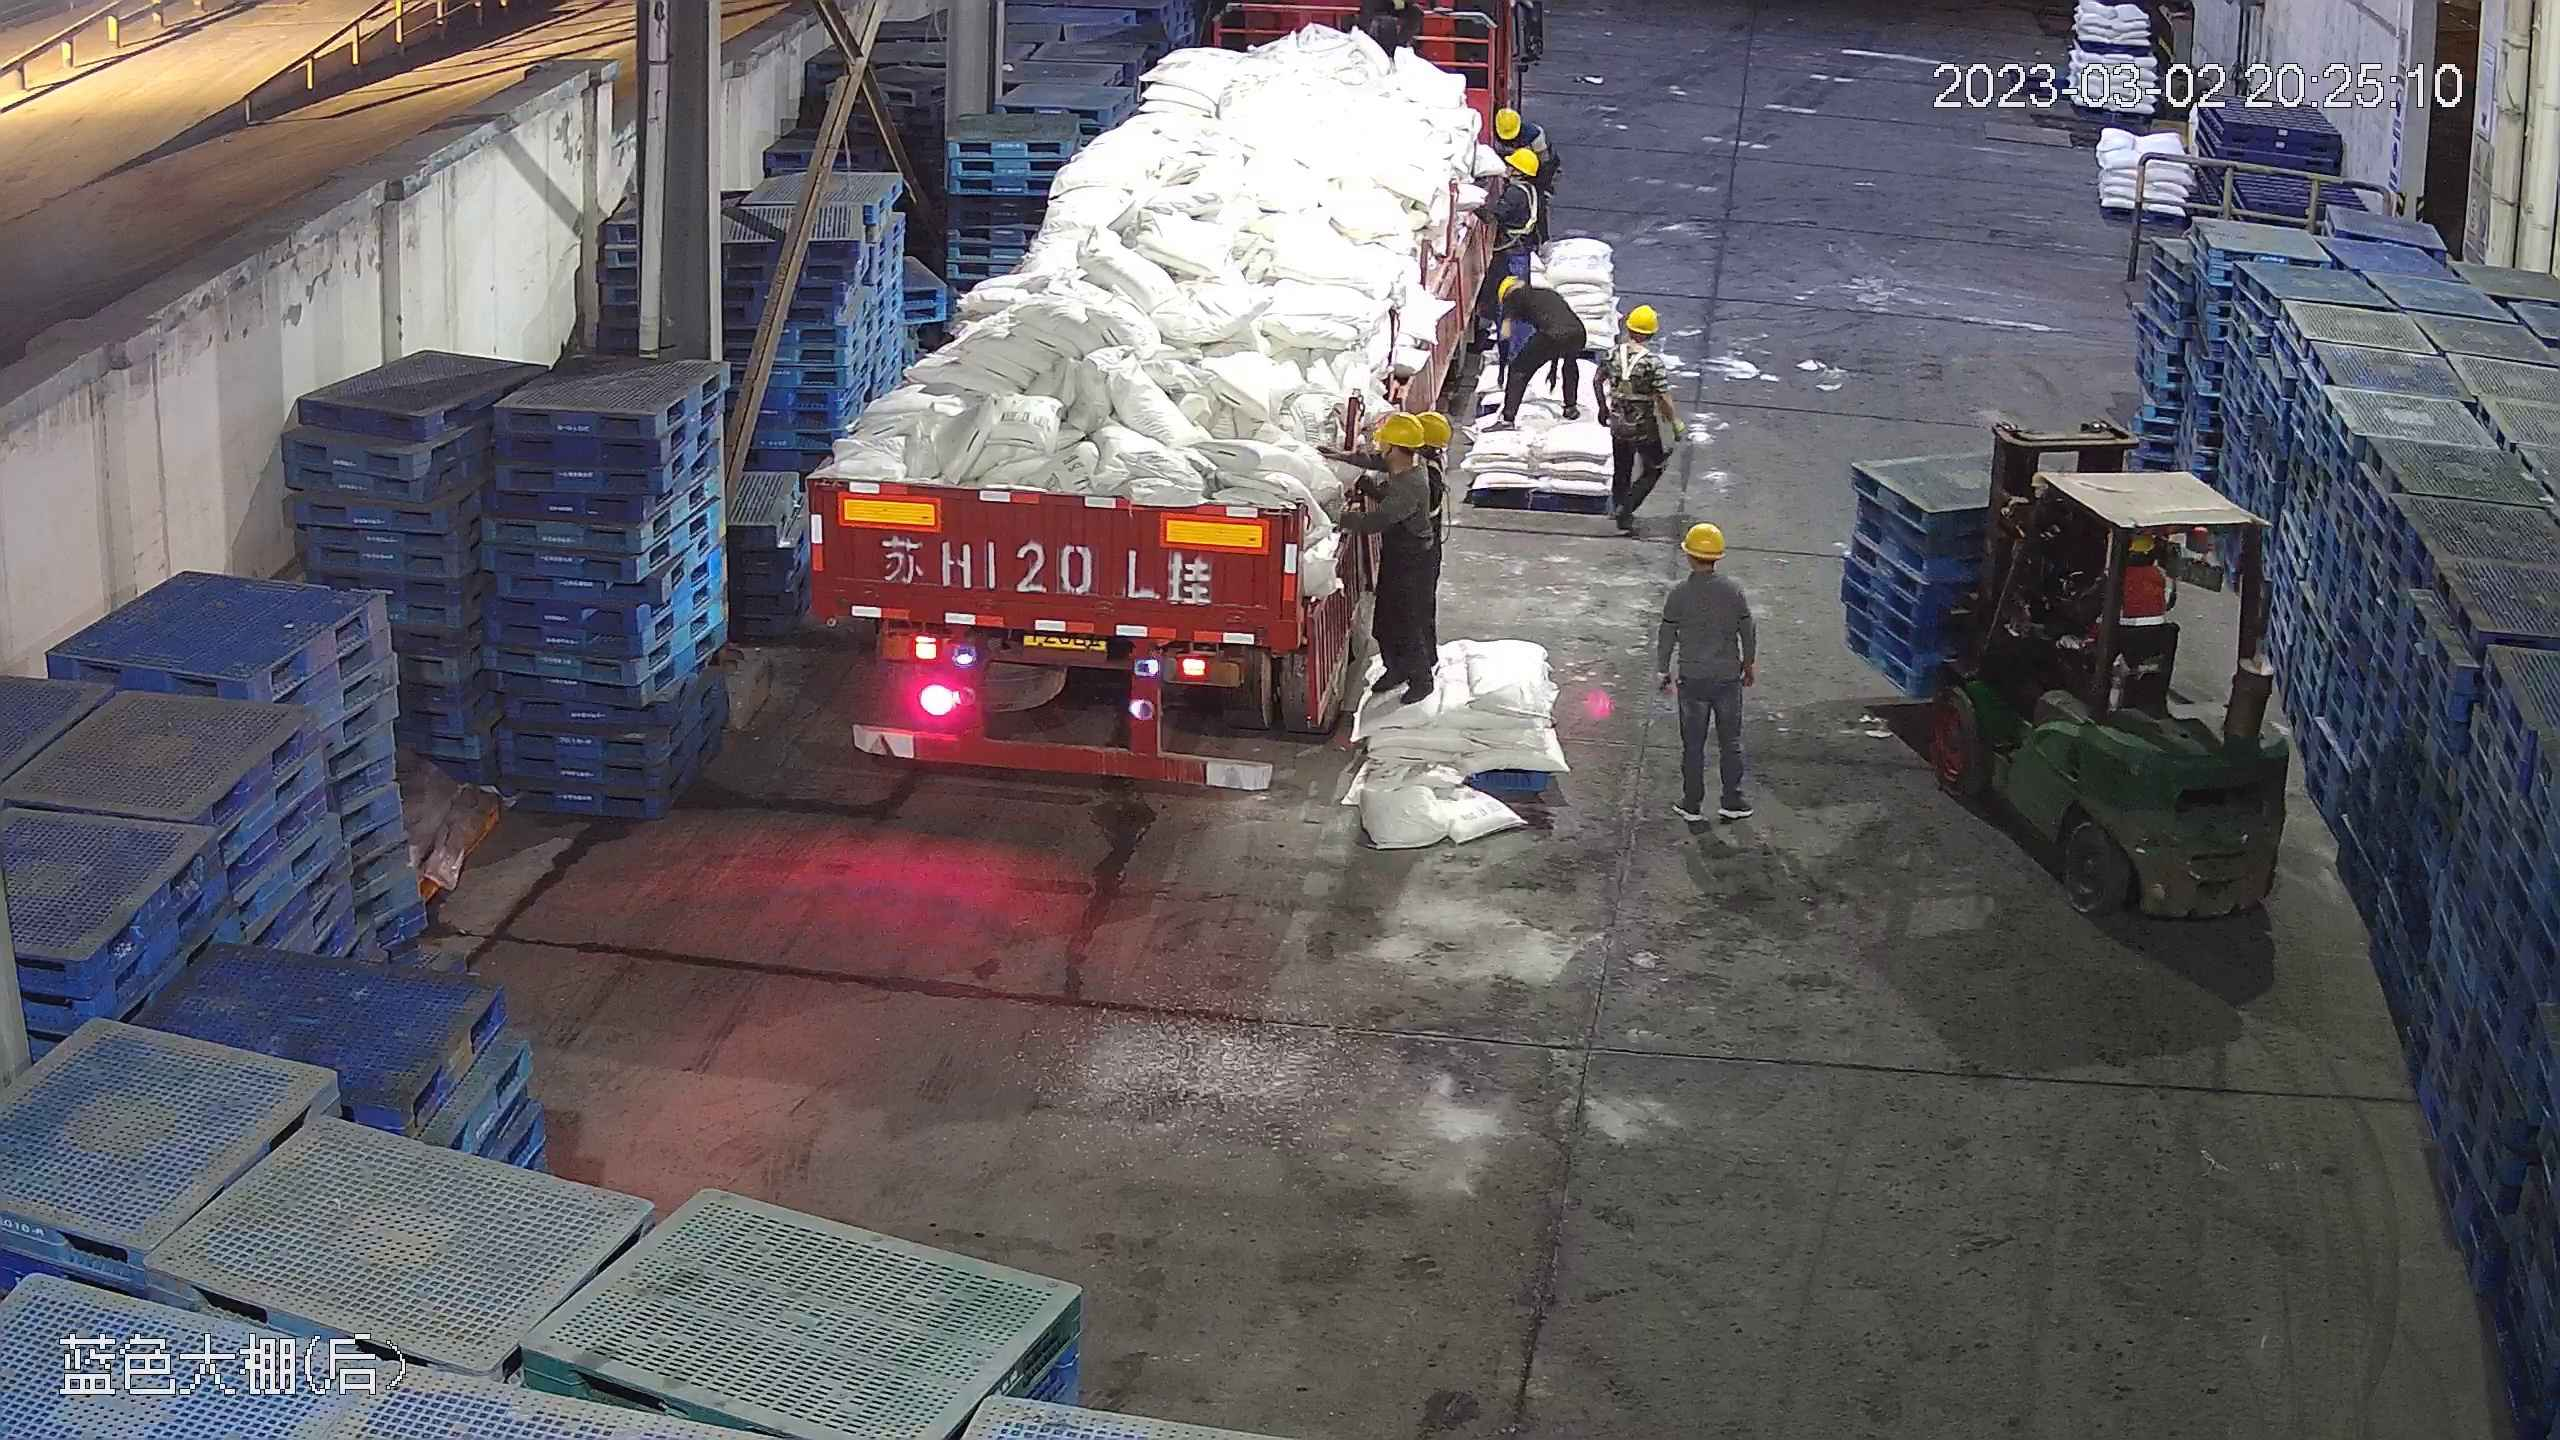belt: (1606, 344, 1659, 402), (1497, 177, 1543, 229), (1426, 456, 1455, 524)
head: (1664, 521, 1755, 623), (1349, 414, 1437, 519), (1601, 303, 1672, 382), (1492, 148, 1546, 226), (1493, 274, 1558, 328)
helmet: (1375, 408, 1427, 448), (1679, 520, 1726, 557), (1422, 410, 1455, 450), (1507, 142, 1540, 177), (1621, 303, 1659, 332), (1493, 103, 1525, 139), (1492, 274, 1524, 303)
people: (1335, 407, 1450, 720), (1657, 520, 1764, 827), (1598, 300, 1682, 533), (1487, 269, 1585, 430)
truck: (791, 7, 1534, 799)
